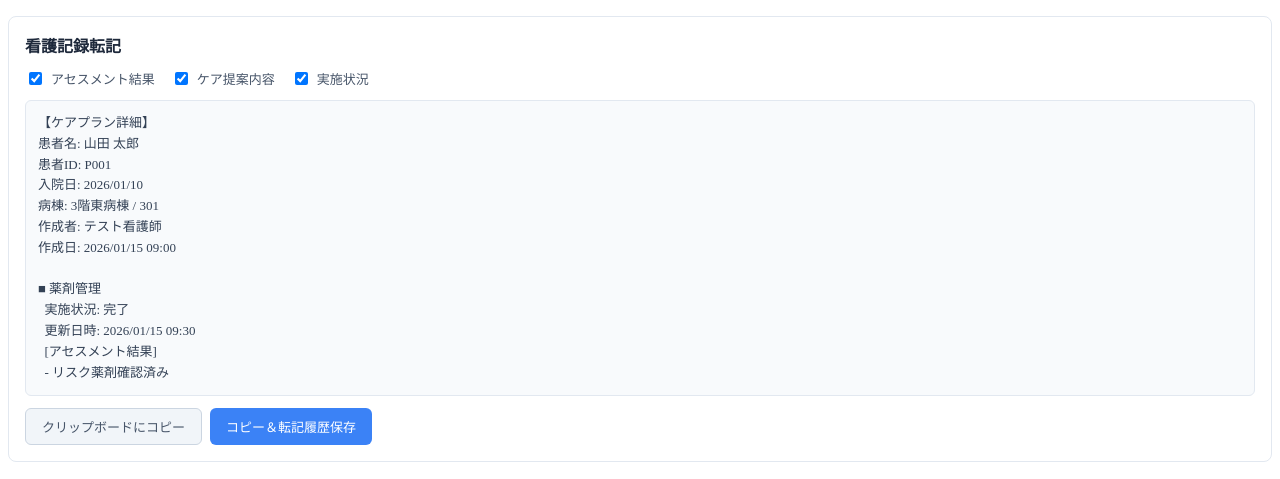
TranscriptionPanel › オプションチェックボックスの切り替えでプレビューが更新される
Expected: the text with test id "transcription-preview" shows "アセスメント結果", [38,115,196,380]
# 最初のチェックボックス（アセスメント結果）をクリック
Click the checkbox labelled "アセスメント結果" at (36, 78), box [29,72,42,85]
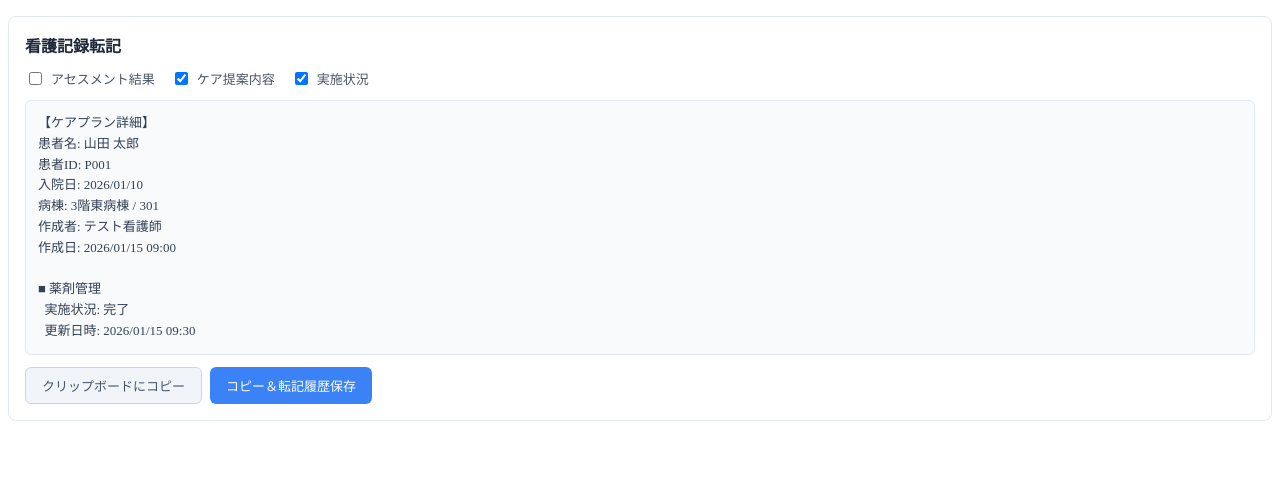
Expected: the element with test id "transcription-preview" no longer shows "[アセスメント結果]"
